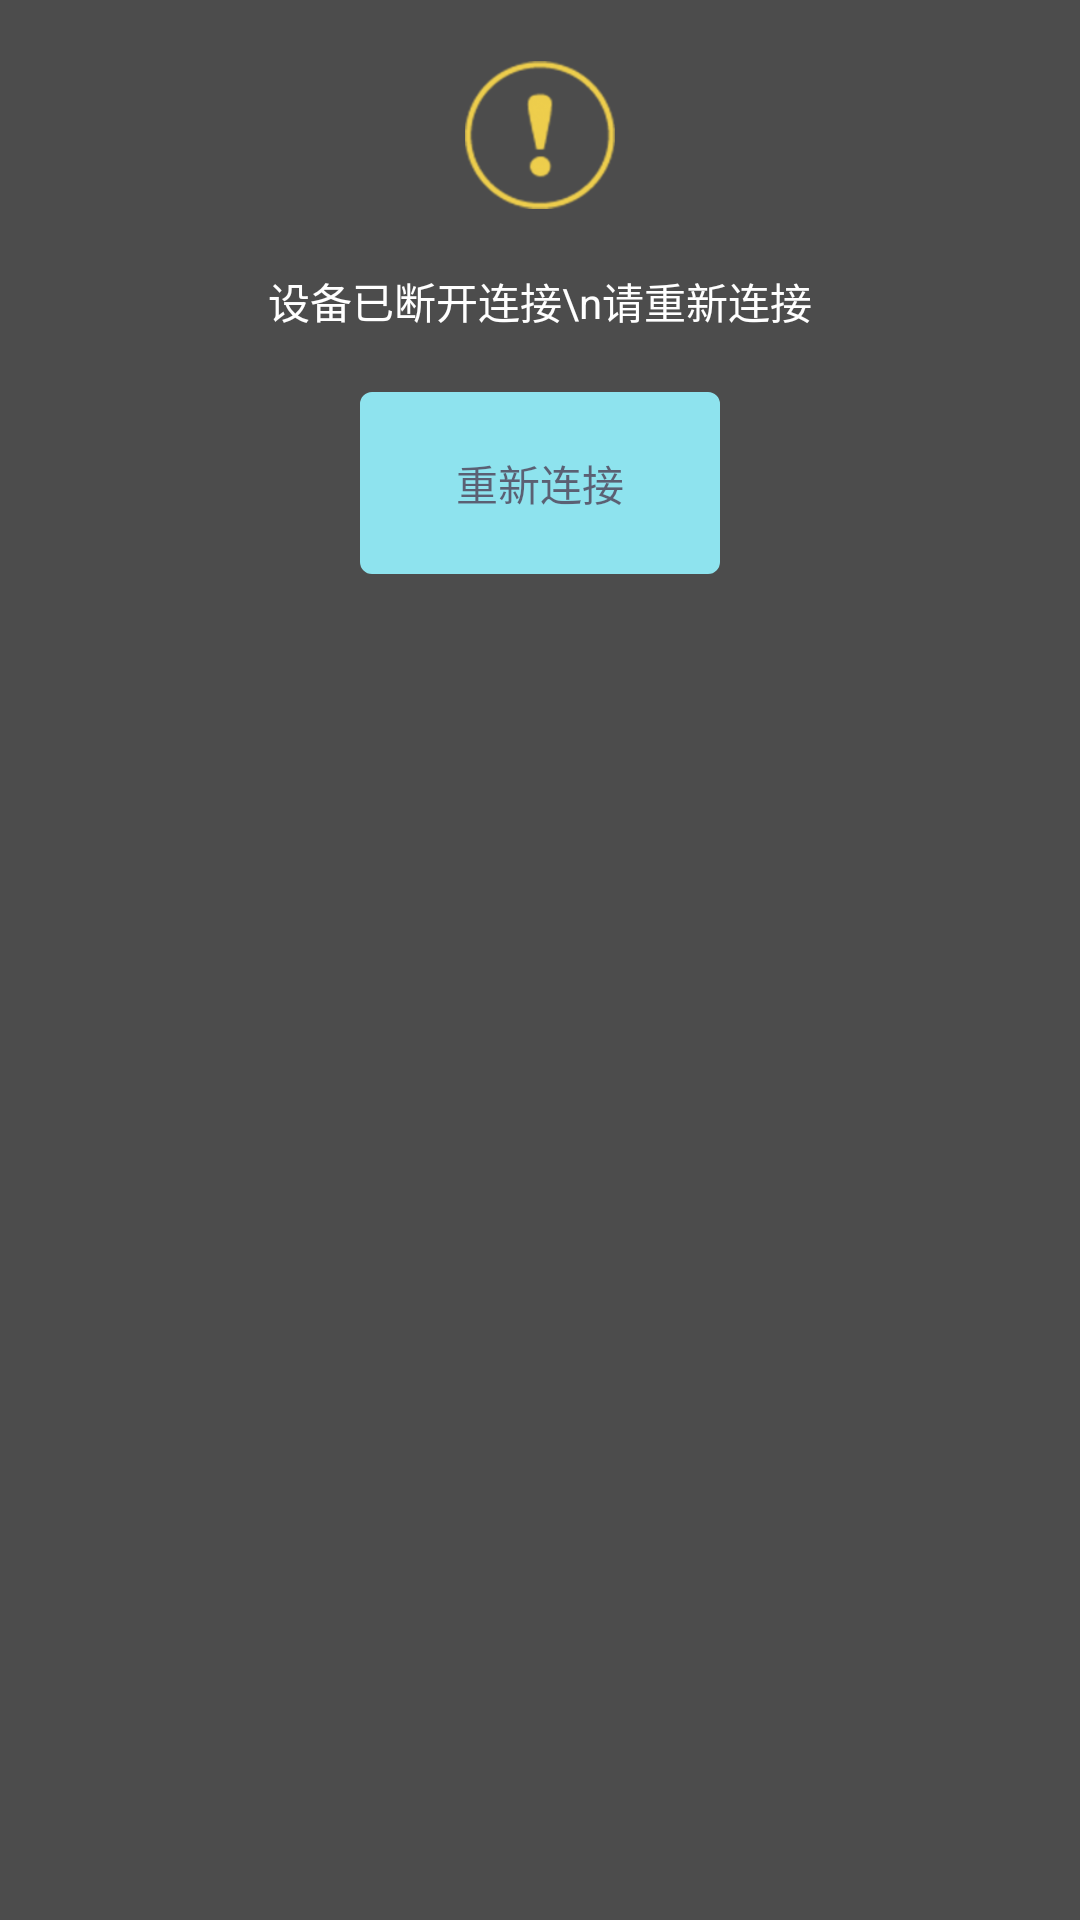

Point at icon controls on the screen. Image size 1080w x 1920h, points as [x,y].
error: [540,135]
